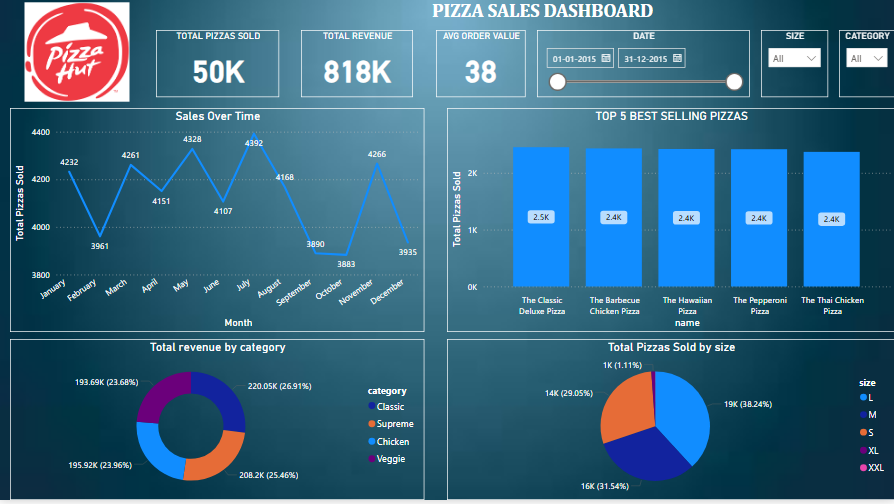

Layout of this report page (visuals, bound fields, positions):
{"tool":"powerbi","page":{"name":"Page 1","canvas":[1280,720],"ordinal":0},"visuals":[{"type":"card","title":"TOTAL PIZZAS SOLD","fields":{"Values":["order_details.Total Pizzas Sold"]},"box":[224,48,176,96],"z":0},{"type":"card","title":"TOTAL REVENUE","fields":{"Values":["order_details.Total revenue"]},"box":[432,48,160,96],"z":1},{"type":"card","title":"AVG ORDER VALUE","fields":{"Values":["order_details.AVG order value"]},"box":[624,48,128,96],"z":2},{"type":"slicer","title":"DATE","fields":{"Values":["orders.date"]},"box":[768,48,304,96],"z":3},{"type":"slicer","title":"SIZE","fields":{"Values":["pizzas.size"]},"box":[1088,48,96,96],"z":4},{"type":"slicer","title":"CATEGORY","fields":{"Values":["pizza_type.category"]},"box":[1200,48,80,96],"z":5},{"type":"lineChart","title":"Sales Over Time","fields":{"Category":["orders.date.Variation.Date Hierarchy.Month"],"Y":["order_details.Total Pizzas Sold"]},"box":[16,160,592,320],"z":6},{"type":"lineStackedColumnComboChart","title":"TOP 5 BEST SELLING PIZZAS","fields":{"Category":["pizza_type.name"],"Y":["order_details.Total Pizzas Sold"]},"box":[640,160,640,320],"z":7},{"type":"donutChart","fields":{"Category":["pizza_type.category"],"Y":["order_details.Total revenue"]},"box":[16,490,592,230],"z":8},{"type":"pieChart","fields":{"Category":["pizzas.size"],"Y":["order_details.Total Pizzas Sold"]},"box":[640,490,640,230],"z":9},{"type":"image","box":[32,0,160,160],"z":11},{"type":"textbox","box":[368,0,816,48],"z":12}]}

Visuals, with their boxes in screenshot pixels (x1, y1, x2, y2), scaled from the page's 1280x720 canvas onto the 894x504 screenshot:
"TOTAL PIZZAS SOLD" card: [156, 34, 279, 101]
"TOTAL REVENUE" card: [302, 34, 413, 101]
"AVG ORDER VALUE" card: [436, 34, 525, 101]
"DATE" slicer: [536, 34, 749, 101]
"SIZE" slicer: [760, 34, 827, 101]
"CATEGORY" slicer: [838, 34, 893, 101]
"Sales Over Time" lineChart: [11, 112, 425, 336]
"TOP 5 BEST SELLING PIZZAS" lineStackedColumnComboChart: [447, 112, 893, 336]
donutChart - pizza_type.category x order_details.Total revenue: [11, 343, 425, 503]
pieChart - pizzas.size x order_details.Total Pizzas Sold: [447, 343, 893, 503]
image: [22, 0, 134, 112]
textbox: [257, 0, 827, 34]
